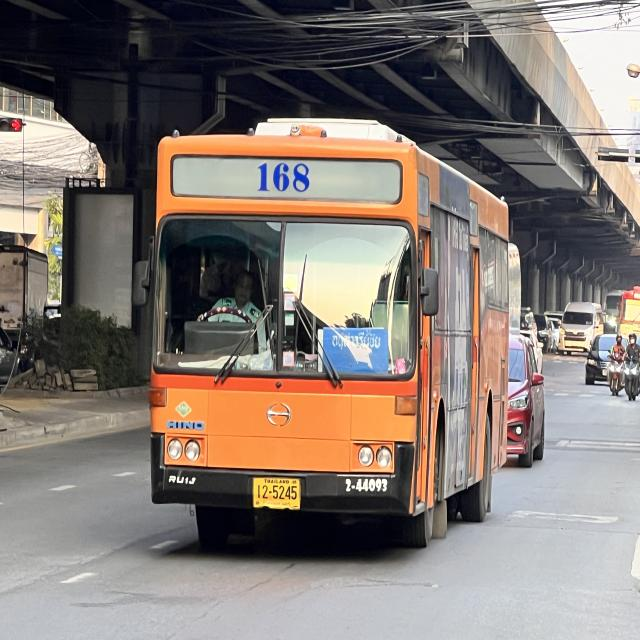BMTA-bus: (147, 120, 519, 552)
Bus-Line-Number: (251, 154, 321, 199)
Destination-Sign-Normal: (322, 327, 390, 377)
